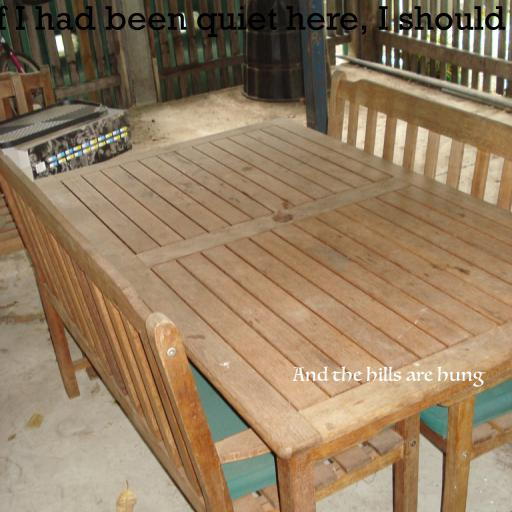Luminari: (292, 366, 484, 387)
Rockwell: (0, 5, 512, 38)
